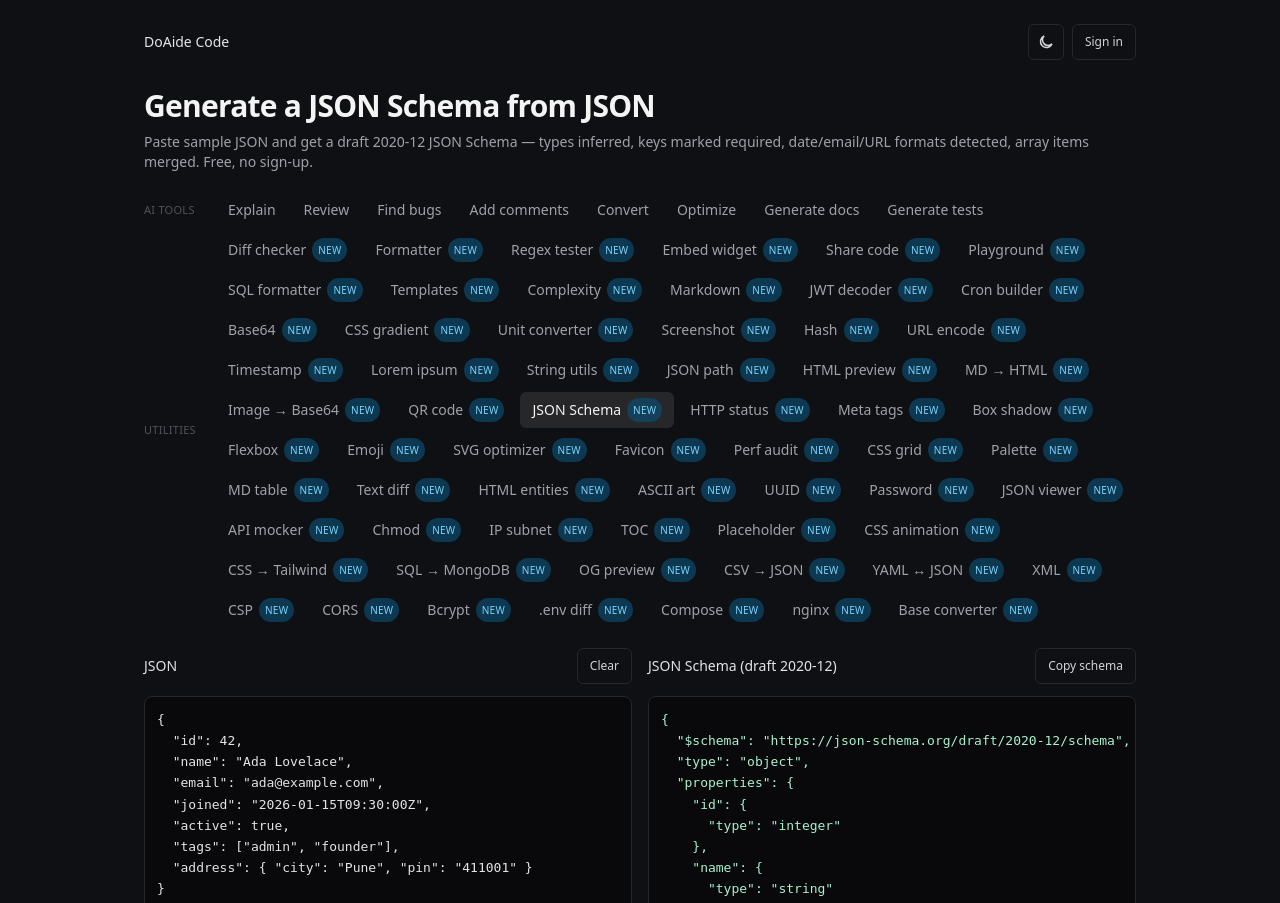
Test: JsonSchemaPage › clears the input
Click the button with test id "schema-clear".
click(604, 666)  # box [577, 648, 632, 684]
(page scrolled)
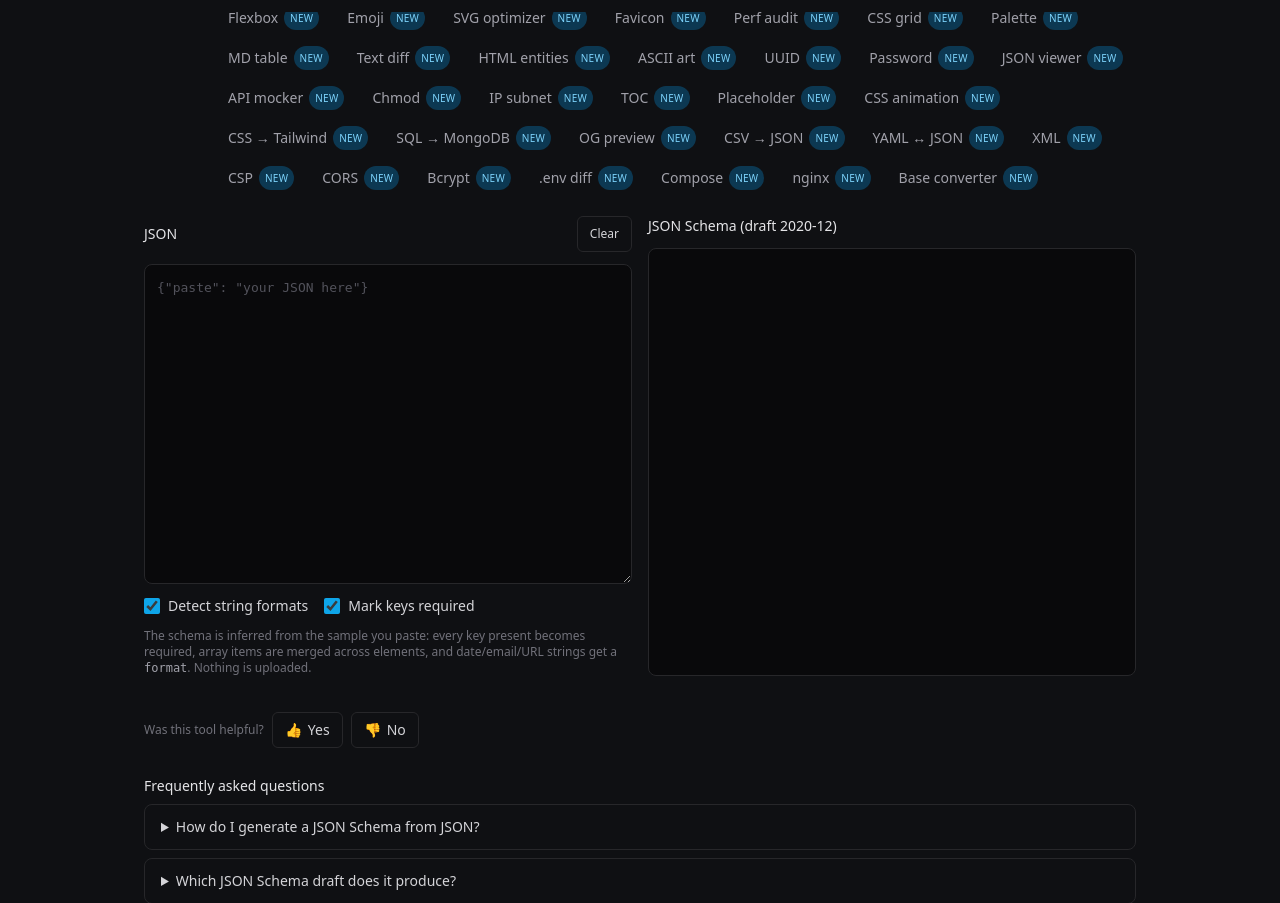
Result: the text box with test id "schema-input" is empty at [144, 264, 632, 584]
Result: the element with test id "schema-output" is empty at [648, 248, 1136, 676]
